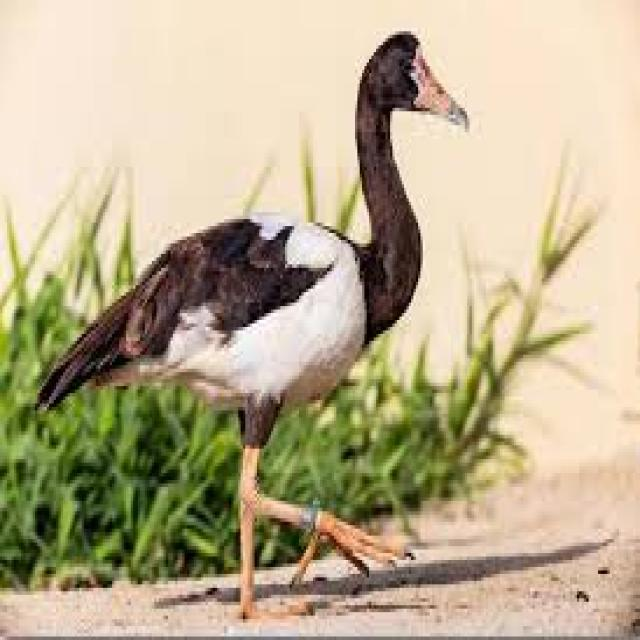Goose: (52, 28, 466, 591)
